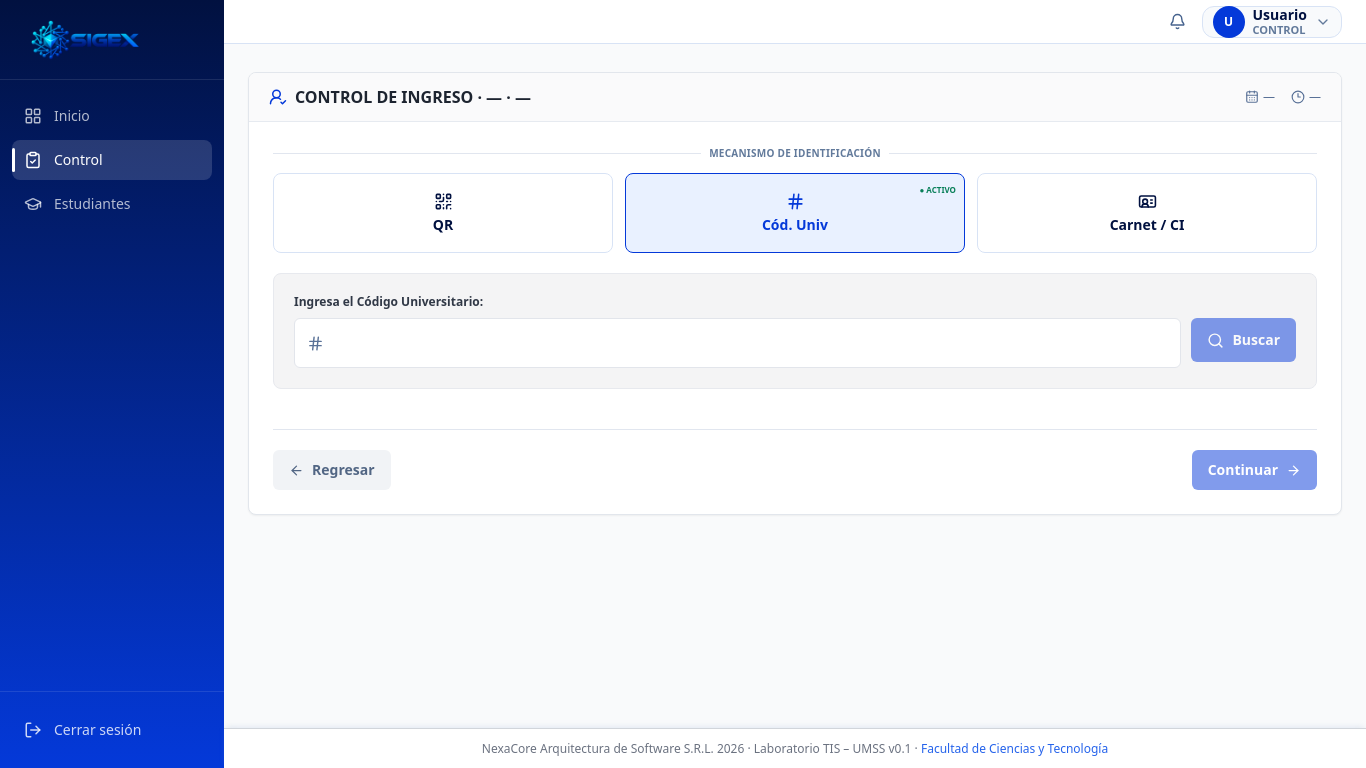
Test: IdentificacionPage › CA-28: el resultado y la verificación muestran la condición del estudiante
Type "202104010" into the field labelled "Ingresa el Código Universitario:" at (751,343), box x1=334 y1=319 x2=1168 y2=367
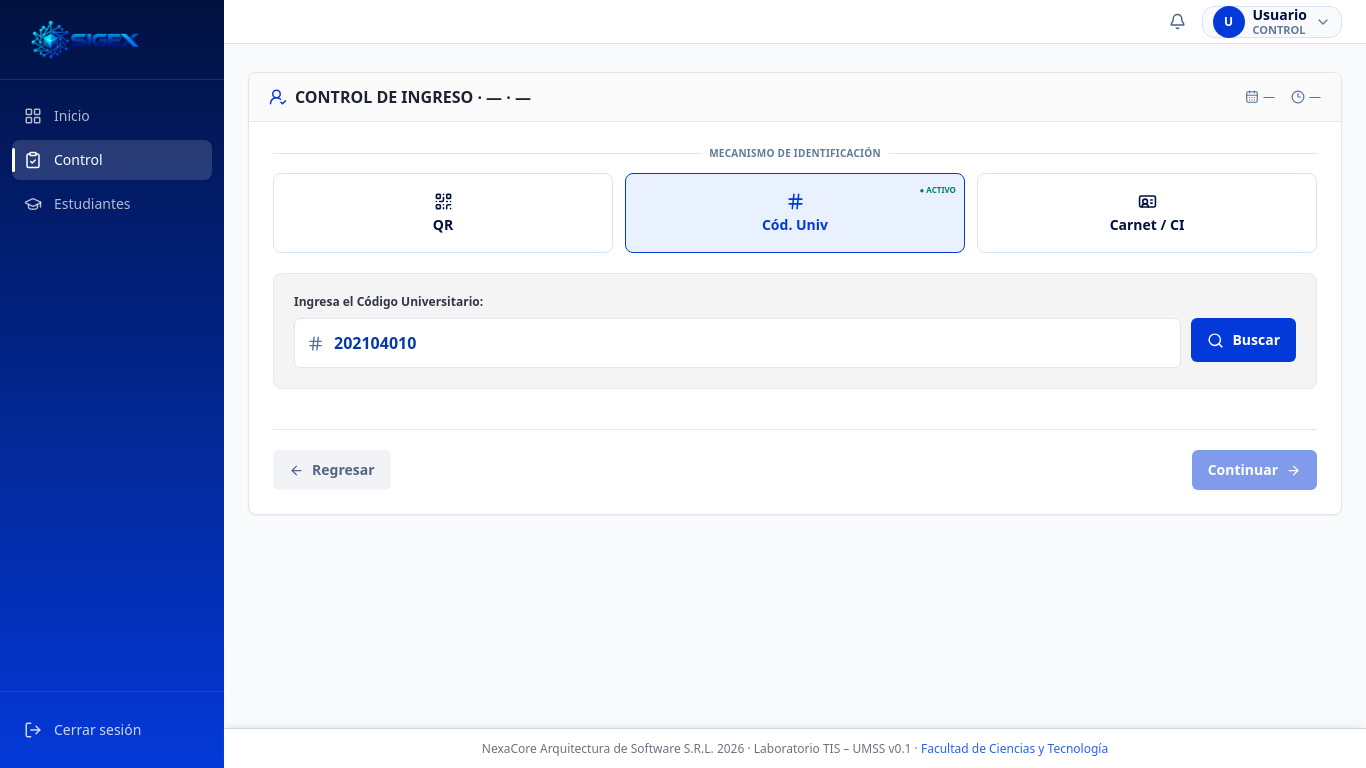
Click the button "Buscar" at (1244,340), box x1=1191 y1=318 x2=1296 y2=362
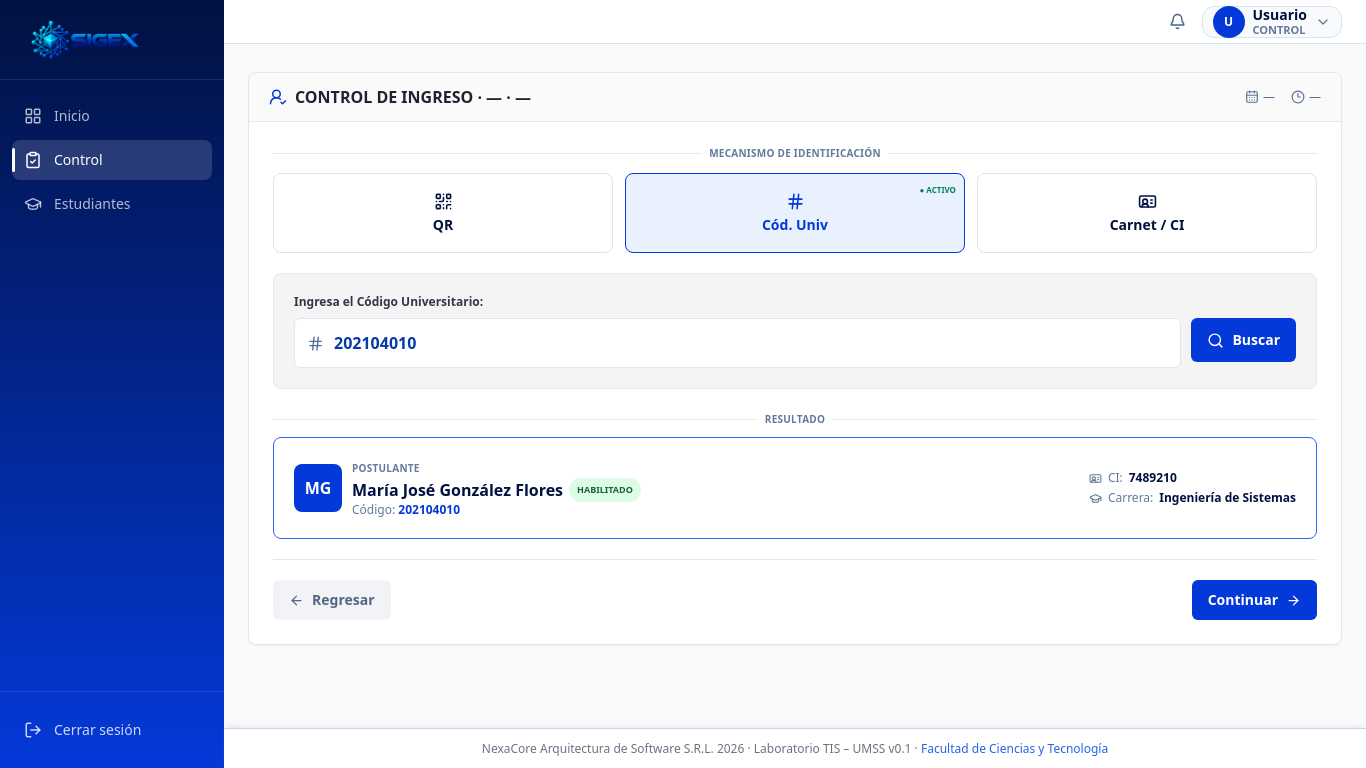
Check: the text "María José González Flores" is shown, box x1=352 y1=478 x2=563 y2=502
Check: the text "Postulante" is shown, box x1=352 y1=461 x2=420 y2=475
Click the button "Continuar" at (1254,600), box x1=1192 y1=580 x2=1317 y2=620
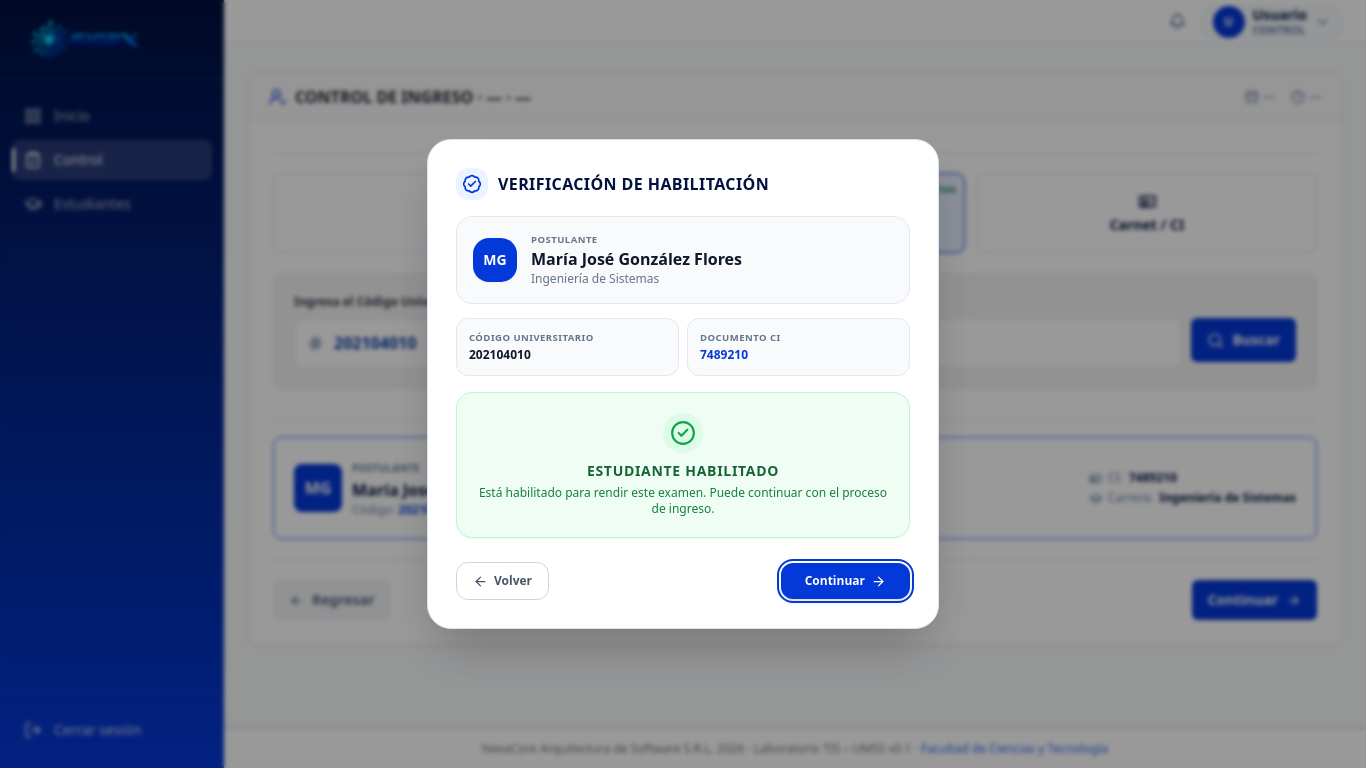
Check: the text "Postulante" is shown, box x1=531 y1=233 x2=598 y2=246
